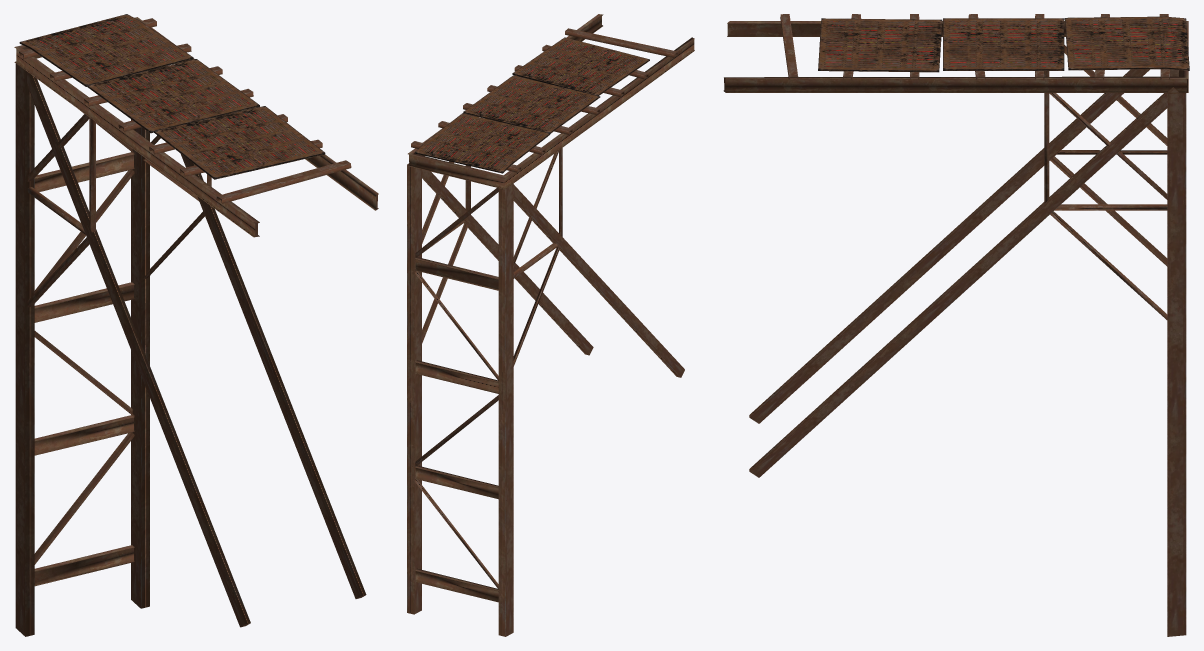
Rendered from pipe_cover_left_half_top.glb.
The picture shows the model from 3 angles, left to right: view 1: azimuth 30°, elevation 25°; view 2: azimuth 150°, elevation 25°; view 3: azimuth 270°, elevation 25°; orthographic projection. The views are drawn at different scales.
Visible parts, largest first — view 1: pipe_cover_left_half_top_LOD0; view 2: pipe_cover_left_half_top_LOD0; view 3: pipe_cover_left_half_top_LOD0.
Boxes of the visible parts, x1,y1,x2,y2 form: pipe_cover_left_half_top_LOD0: (14,14,378,636); pipe_cover_left_half_top_LOD0: (407,14,694,636); pipe_cover_left_half_top_LOD0: (723,14,1189,636).
Bounding box in the file's own units: 3.68 × 15.43 × 11.56.
Materials: 2 (2 with a texture image).
